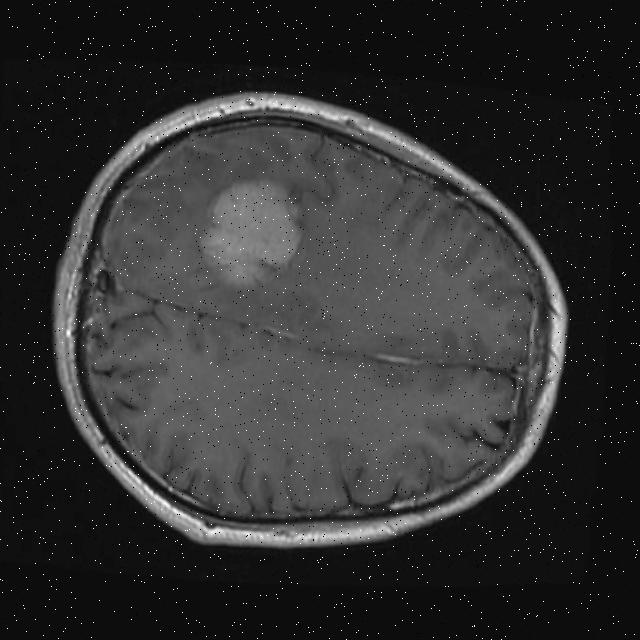Meningioma: (195, 174, 309, 293)
